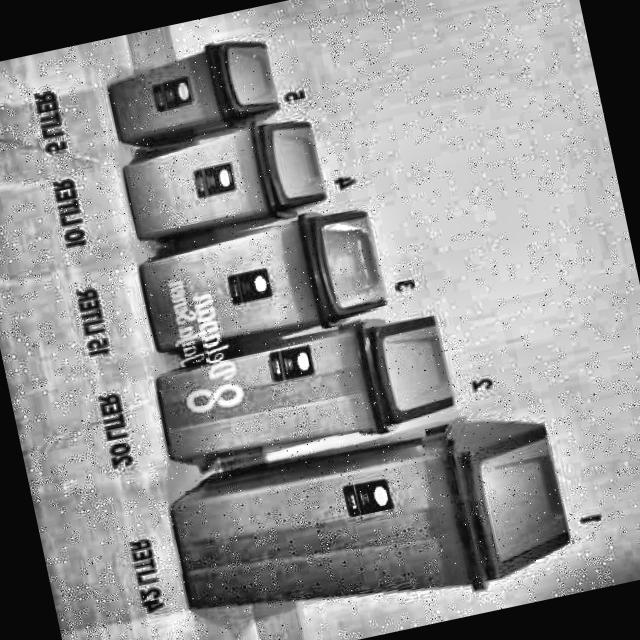Dustbin: (146, 399, 586, 640), (144, 302, 464, 480), (117, 200, 401, 369), (109, 111, 332, 252), (88, 26, 286, 156)
